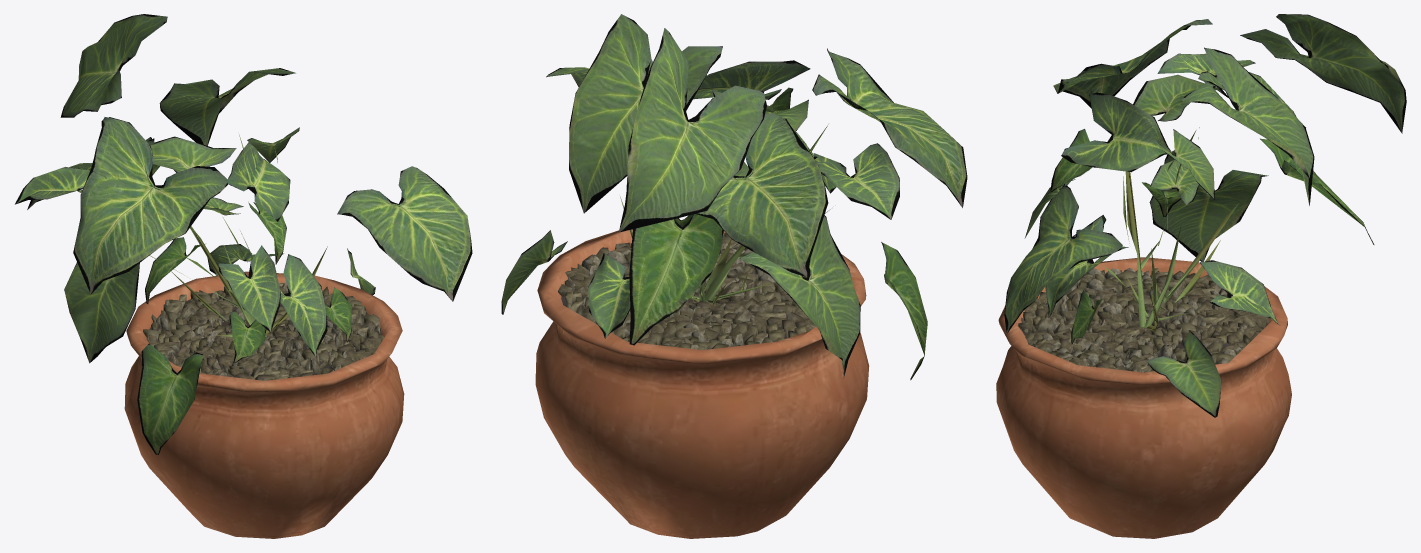
The model's file is potted_plant_02.glb.
The picture shows the model from 3 angles, left to right: view 1: azimuth 30°, elevation 25°; view 2: azimuth 150°, elevation 25°; view 3: azimuth 270°, elevation 25°; orthographic projection. The views are drawn at different scales.
Parts seen in each view (by area): view 1: potted_plant_02_leaves, potted_plant_02_pot, potted_plant_02_dirt; view 2: potted_plant_02_leaves, potted_plant_02_pot, potted_plant_02_dirt; view 3: potted_plant_02_leaves, potted_plant_02_pot, potted_plant_02_dirt.
Part boxes in pixels (left/top/right/bottom): potted_plant_02_leaves: left=15, top=14, right=472, bottom=454; potted_plant_02_pot: left=124, top=271, right=404, bottom=538; potted_plant_02_dirt: left=143, top=283, right=384, bottom=390; potted_plant_02_leaves: left=501, top=14, right=967, bottom=380; potted_plant_02_pot: left=535, top=229, right=869, bottom=538; potted_plant_02_dirt: left=558, top=232, right=815, bottom=349; potted_plant_02_leaves: left=1004, top=14, right=1406, bottom=417; potted_plant_02_pot: left=996, top=257, right=1291, bottom=538; potted_plant_02_dirt: left=1018, top=268, right=1269, bottom=372.
Bounding box in the file's own units: 0.7009 × 0.8395 × 0.6561.
Materials: 2 (2 with a texture image).
